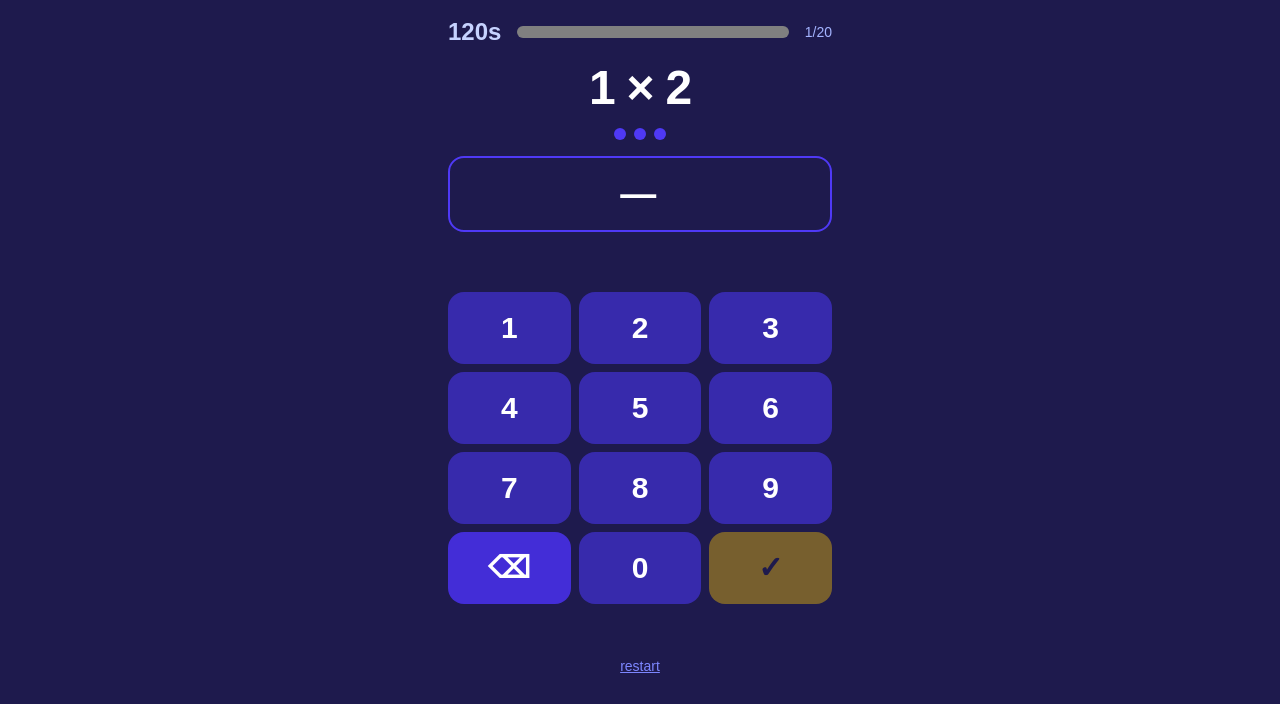
playing phase (playerId in URL) › wrong answer shows wrong feedback
Replace the text in the field with id "capture-input" with "99" at point(640, 194), box [448,156,832,232]
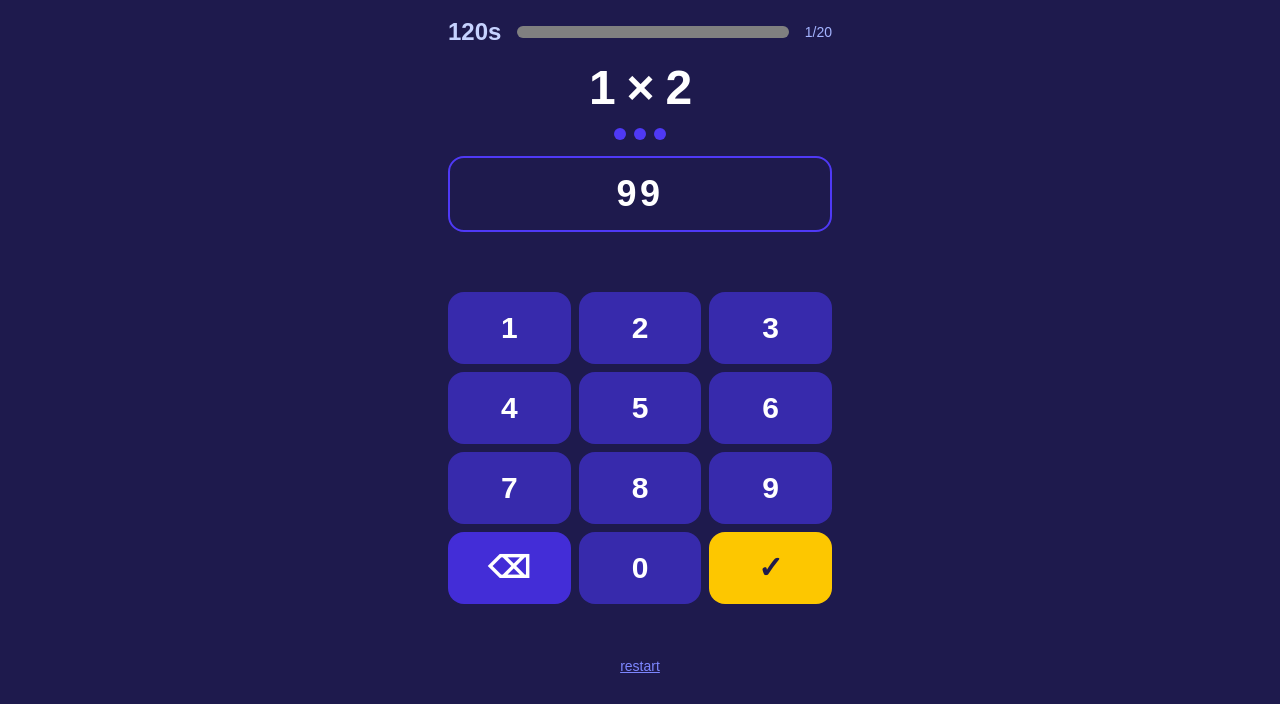
Press Enter in the field with id "capture-input", box [448,156,832,232]
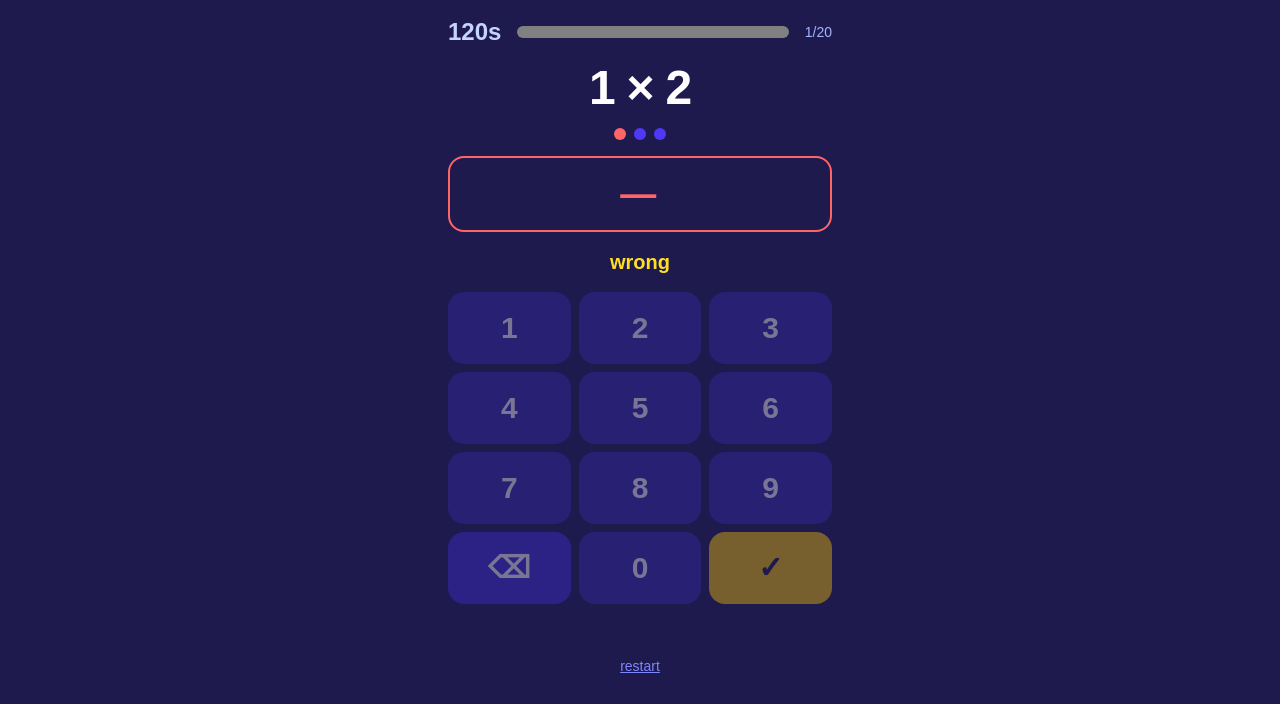
Expected: the message reads "wrong", [610,251,670,273]
